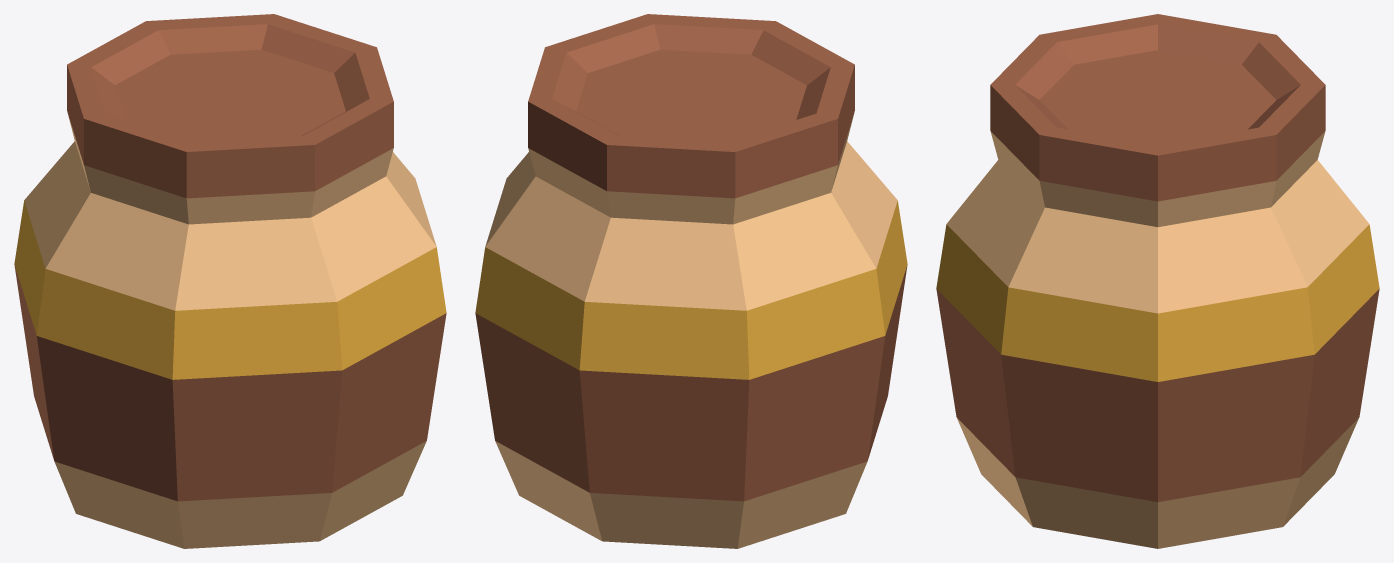
The model's file is honey.fbx.
The picture shows the model from 3 angles, left to right: view 1: azimuth 30°, elevation 25°; view 2: azimuth 150°, elevation 25°; view 3: azimuth 270°, elevation 25°; orthographic projection.
Visible parts, largest first — view 1: honey; view 2: honey; view 3: honey.
Part boxes in pixels (left/top/right/bottom): honey: left=14, top=14, right=446, bottom=548; honey: left=475, top=14, right=907, bottom=548; honey: left=936, top=14, right=1379, bottom=548.
Bounding box in the file's own units: 3.26 × 3.16 × 3.26.
